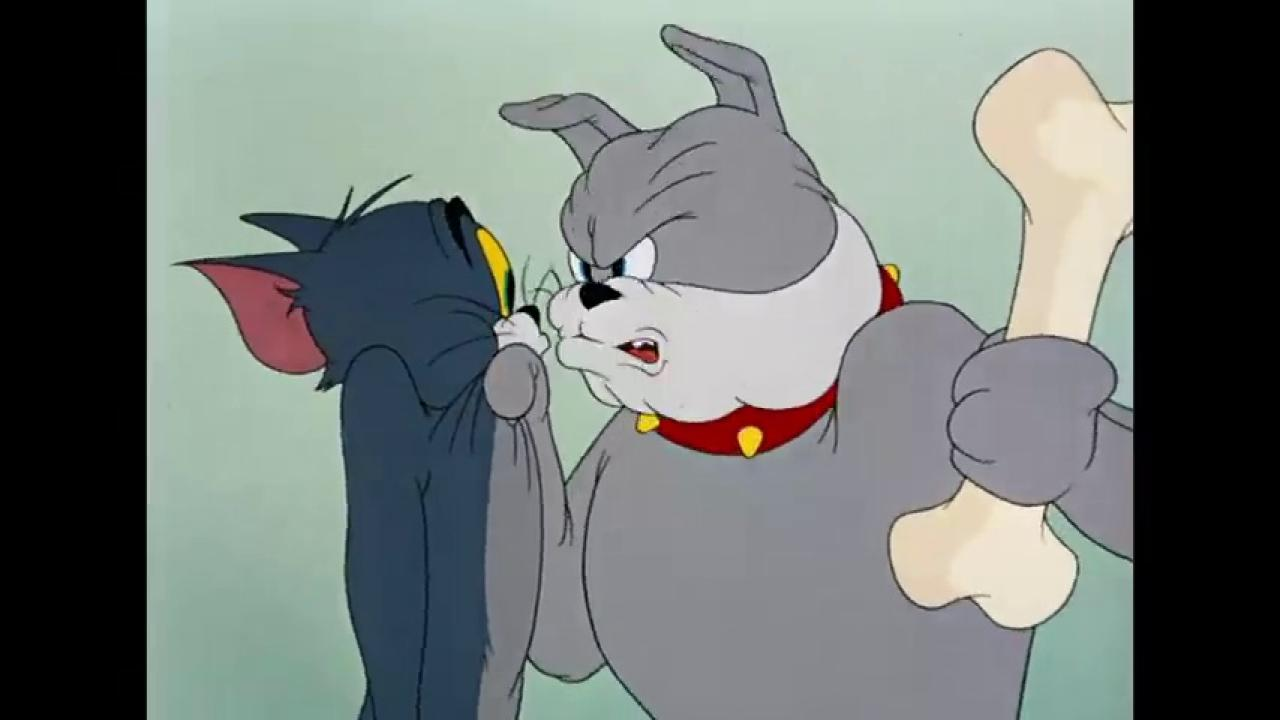Tom: (170, 193, 548, 720)
